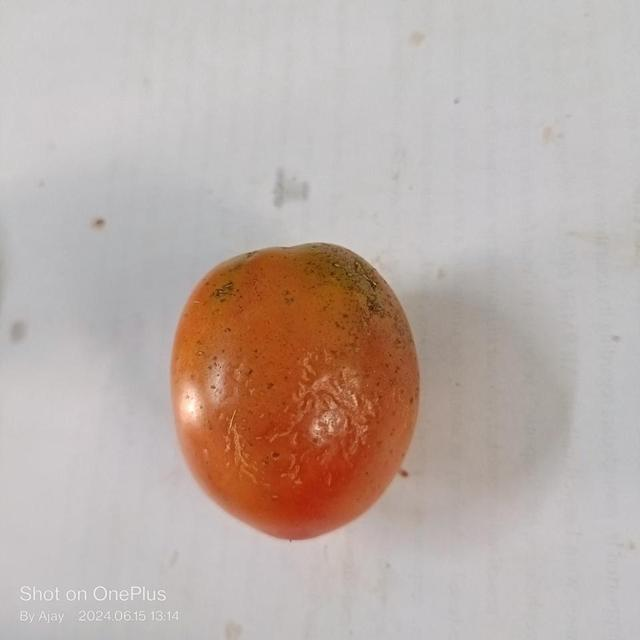Bacterial Spot Fruit: (23, 23, 232, 190)
